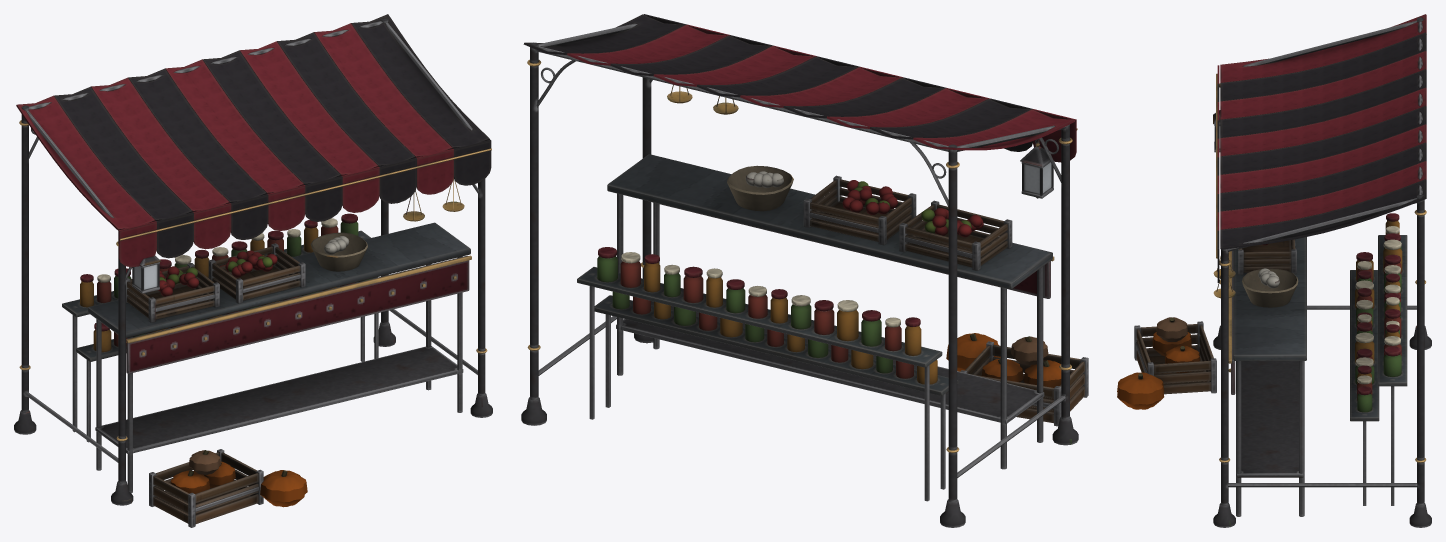
Rendered from MarketStall.fbx.
3 views of the same model, side by side, from view 1: azimuth 30°, elevation 25°; view 2: azimuth 150°, elevation 25°; view 3: azimuth 270°, elevation 25° (orthographic). The views are drawn at different scales.
Parts seen in each view (by area): view 1: MarketStall_Main, MarketStall_Stand, MarketStall_Cloth, MarketStall_Goods; view 2: MarketStall_Main, MarketStall_Stand, MarketStall_Goods, MarketStall_Cloth, MarketStall_Glass; view 3: MarketStall_Main, MarketStall_Stand, MarketStall_Goods, MarketStall_Cloth.
Boxes of the visible parts, x1,y1,x2,y2 form: MarketStall_Main: [14, 14, 492, 505]; MarketStall_Stand: [62, 213, 378, 527]; MarketStall_Cloth: [118, 139, 491, 267]; MarketStall_Goods: [126, 178, 464, 322]; MarketStall_Main: [521, 14, 1078, 527]; MarketStall_Stand: [577, 247, 1088, 501]; MarketStall_Goods: [667, 85, 1012, 270]; MarketStall_Cloth: [643, 14, 1077, 162]; MarketStall_Glass: [1024, 162, 1051, 193]; MarketStall_Main: [1213, 14, 1431, 527]; MarketStall_Stand: [1117, 213, 1407, 505]; MarketStall_Goods: [1213, 239, 1298, 307]; MarketStall_Cloth: [1216, 65, 1219, 282].
Size of the model in its own units: 632 by 519 by 450.
